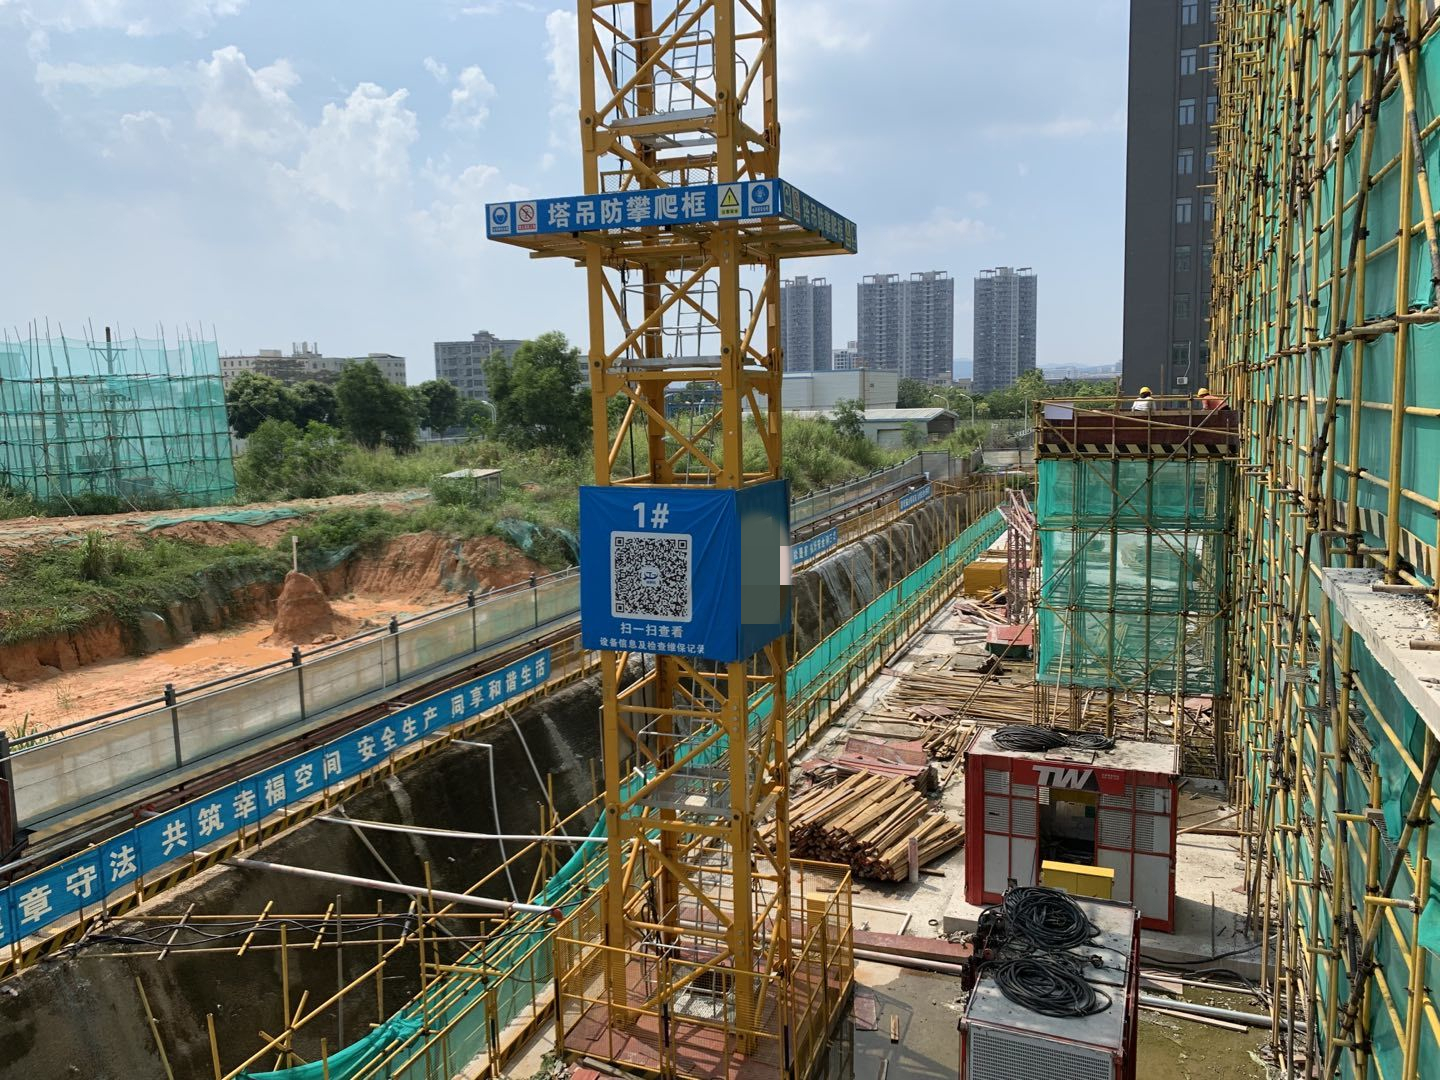fence: (551, 943, 769, 1080), (765, 875, 857, 1080)
slogan: (1, 606, 548, 964)
wood: (783, 763, 963, 889)
